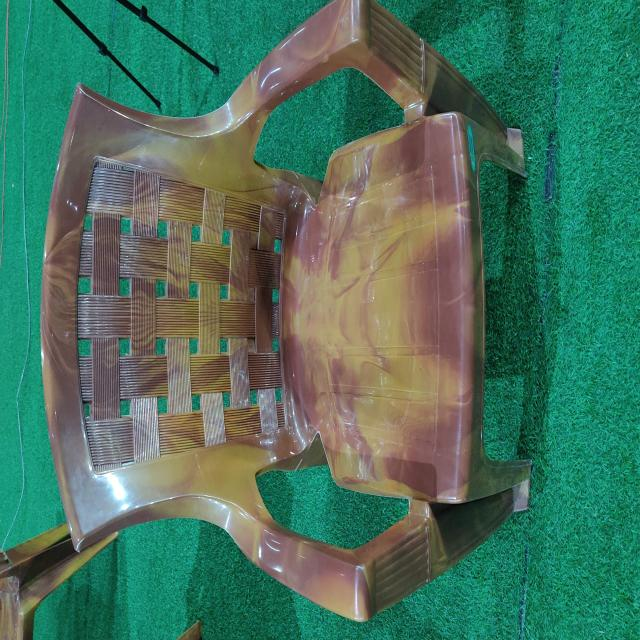Camer Stand: (39, 1, 533, 624)
